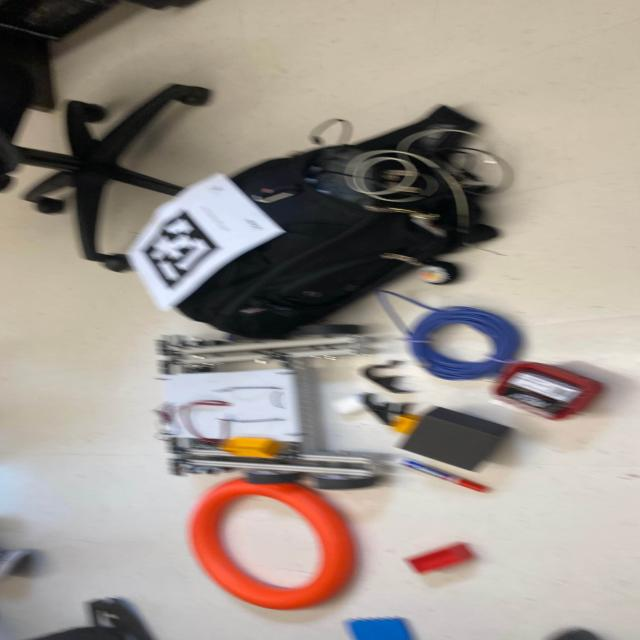red-specimen: (406, 543, 476, 575)
yellow-specimen: (219, 437, 283, 458), (390, 414, 422, 435)
